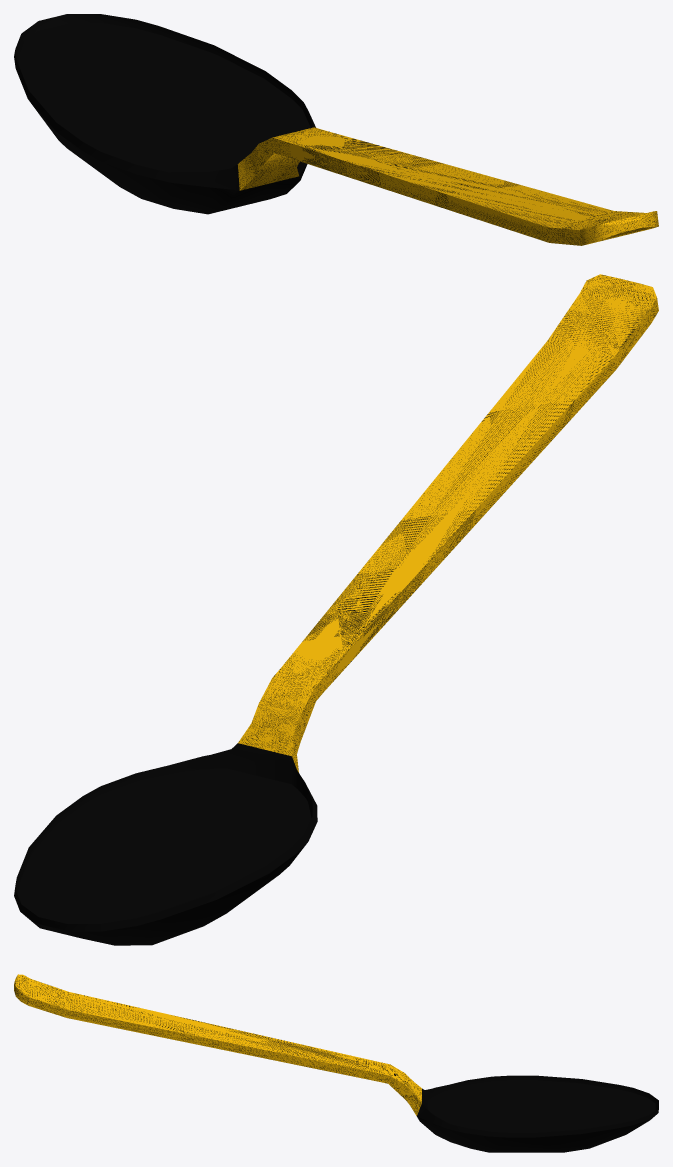
Rendered from spoon_07_origin_gt_1.dae.
The picture shows the model from 3 angles, top to bottom: view 1: azimuth 30°, elevation 25°; view 2: azimuth 150°, elevation 25°; view 3: azimuth 270°, elevation 25°; orthographic projection. The views are drawn at different scales.
Parts seen in each view (by area): view 1: スプーン_ (×4); view 2: スプーン_ (×4); view 3: スプーン_ (×4).
Boxes of the visible parts, x1,y1,x2,y2 form: スプーン_ (×4): [14, 14, 658, 245]; スプーン_ (×4): [14, 274, 658, 945]; スプーン_ (×4): [14, 974, 658, 1152].
Bounding box in the file's own units: 1.17 × 5.47 × 1.53.
